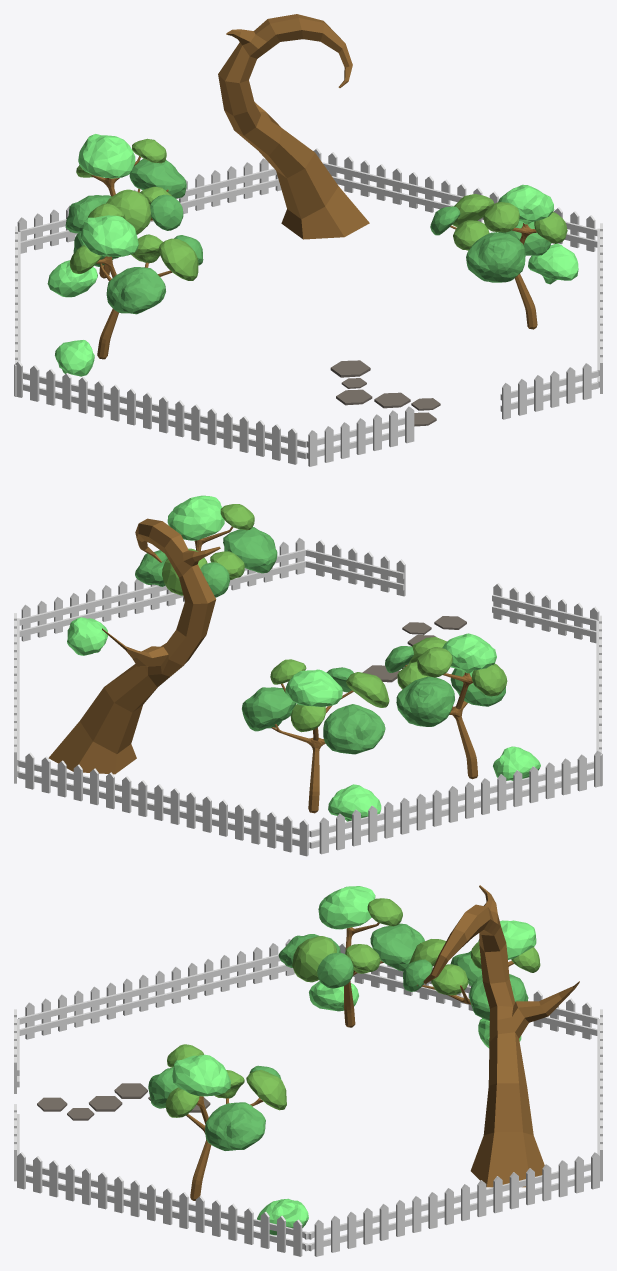
The model's file is garden.glb.
3 renders of one model, top to bottom at view 1: azimuth 30°, elevation 25°; view 2: azimuth 150°, elevation 25°; view 3: azimuth 270°, elevation 25°, orthographic.
Visible parts, largest first — view 1: Cube.003, fence, fence.002, fence.001, tree.011, tree.007, tree.009, tree.002, tree, tree.005, tree.006, tree.001 (+6 smaller); view 2: fence, Cube.003, fence.002, fence.001, tree.007, tree, tree.011, tree.002, tree.005, tree.010, tree.009, tree.006 (+6 smaller); view 3: fence.001, Cube.003, fence.002, tree.011, tree, tree.002, tree.009, tree.007, tree.005, tree.010, tree.001, fence (+5 smaller).
Part boxes in pixels (x1=…): Cube.003: x1=218, y1=14, x2=369, y2=239; fence: x1=17, y1=158, x2=598, y2=466; fence.002: x1=14, y1=226, x2=306, y2=464; fence.001: x1=313, y1=148, x2=602, y2=393; tree.011: x1=430, y1=206, x2=551, y2=282; tree.007: x1=65, y1=158, x2=186, y2=233; tree.009: x1=452, y1=194, x2=567, y2=250; tree.002: x1=70, y1=203, x2=198, y2=280; tree: x1=73, y1=231, x2=203, y2=314; tree.005: x1=76, y1=138, x2=171, y2=234; tree.006: x1=78, y1=134, x2=135, y2=178; tree.001: x1=80, y1=215, x2=138, y2=256; fence: x1=18, y1=540, x2=599, y2=856; Cube.003: x1=48, y1=518, x2=220, y2=774; fence.002: x1=310, y1=615, x2=602, y2=854; fence.001: x1=14, y1=537, x2=305, y2=783; tree.007: x1=242, y1=667, x2=385, y2=754; tree: x1=385, y1=646, x2=505, y2=726; tree.011: x1=135, y1=527, x2=277, y2=597; tree.002: x1=397, y1=637, x2=507, y2=696; tree.005: x1=270, y1=659, x2=389, y2=732; tree.010: x1=167, y1=495, x2=224, y2=540; tree.009: x1=162, y1=504, x2=254, y2=595; tree.006: x1=285, y1=669, x2=342, y2=706; fence.001: x1=17, y1=1152, x2=599, y2=1256; Cube.003: x1=423, y1=885, x2=579, y2=1187; fence.002: x1=18, y1=935, x2=598, y2=1039; tree.011: x1=148, y1=1065, x2=281, y2=1150; tree: x1=278, y1=923, x2=424, y2=988; tree.002: x1=292, y1=898, x2=402, y2=982; tree.009: x1=165, y1=1044, x2=286, y2=1117; tree.007: x1=403, y1=951, x2=528, y2=1020; tree.005: x1=409, y1=939, x2=540, y2=995; tree.010: x1=172, y1=1054, x2=230, y2=1096; tree.001: x1=318, y1=886, x2=375, y2=929; fence: x1=14, y1=1009, x2=602, y2=1181.
Bounding box in the file's own units: 49.06 × 18.97 × 42.31.
